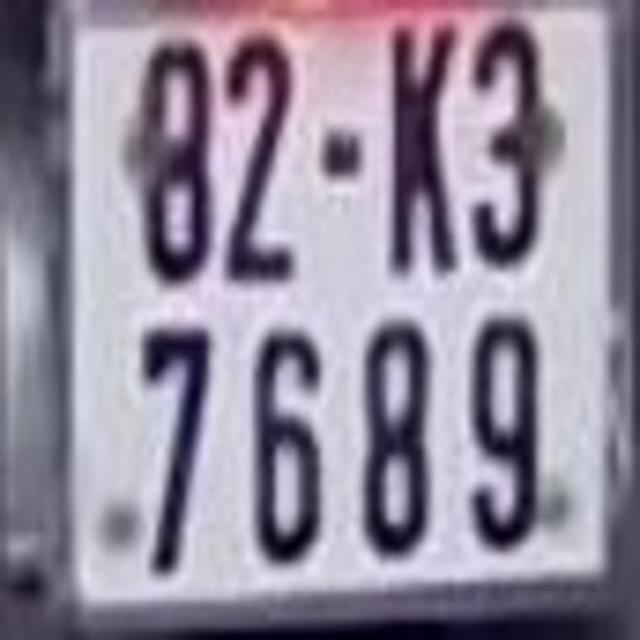2: (223, 33, 297, 282)
3: (471, 22, 542, 269)
6: (251, 328, 323, 562)
7: (140, 325, 213, 577)
8: (138, 39, 212, 282), (362, 318, 430, 556)
9: (467, 313, 539, 552)
K: (388, 21, 456, 277)
